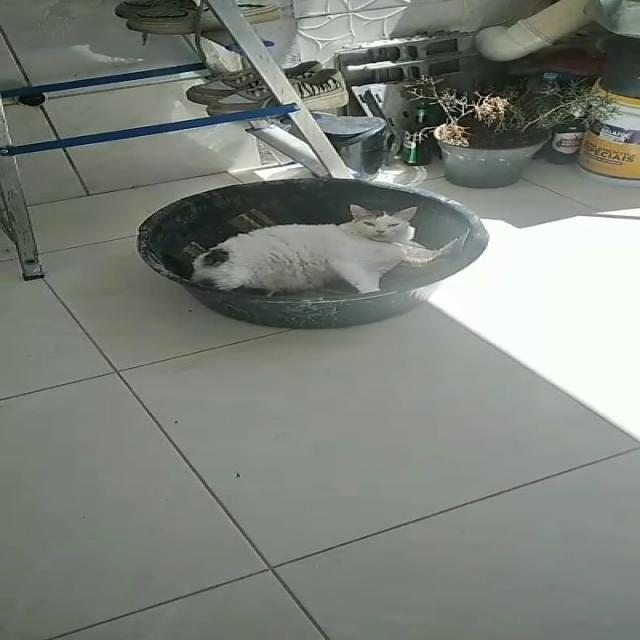Simba: (161, 200, 509, 291)
